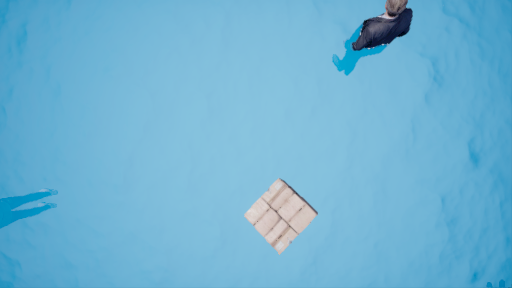person: (340, 1, 415, 78)
